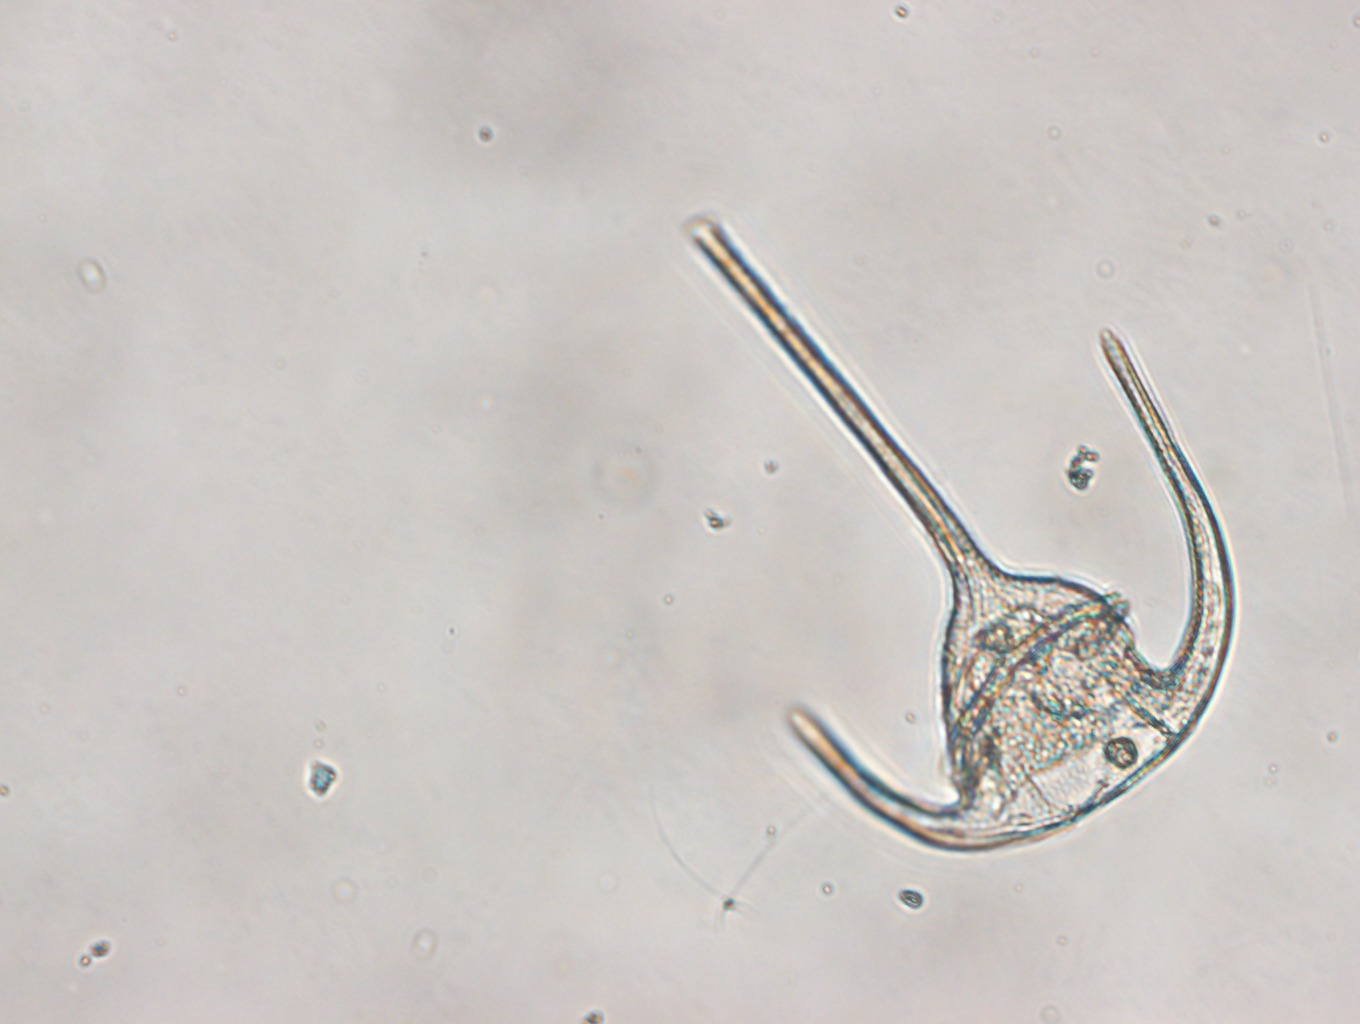ceratium tripos: (686, 213, 1239, 856)
